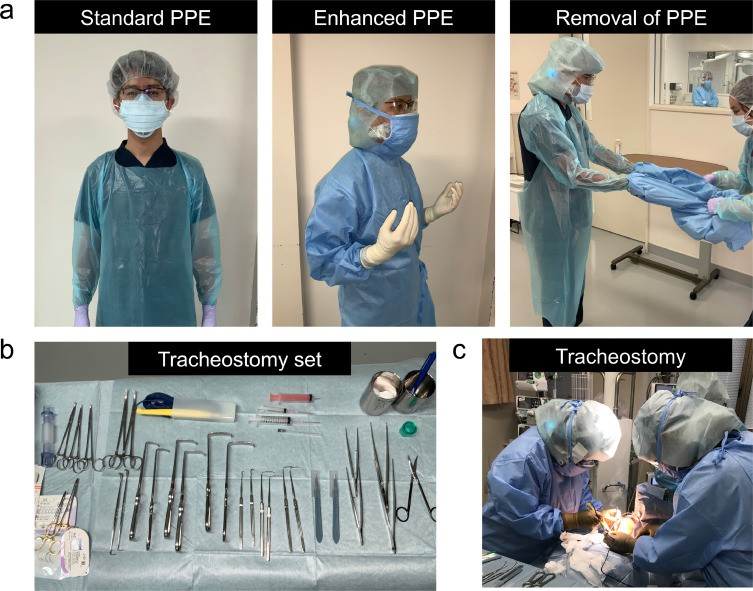Coverall: (515, 92, 627, 328), (68, 147, 227, 309), (299, 144, 437, 327), (635, 439, 753, 591), (483, 422, 606, 554)
Gloves: (358, 200, 419, 274), (421, 179, 465, 227), (199, 302, 217, 326), (72, 306, 91, 327)
Goggles: (117, 82, 170, 106)
with_mask: (118, 85, 169, 138), (385, 96, 421, 159), (559, 457, 595, 480), (573, 71, 595, 105), (729, 104, 752, 135)
